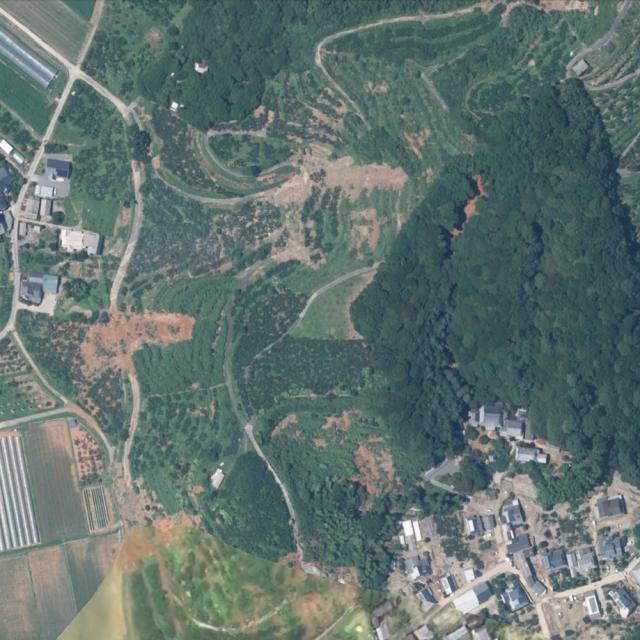landslide: (249, 138, 407, 269), (79, 311, 194, 378)
